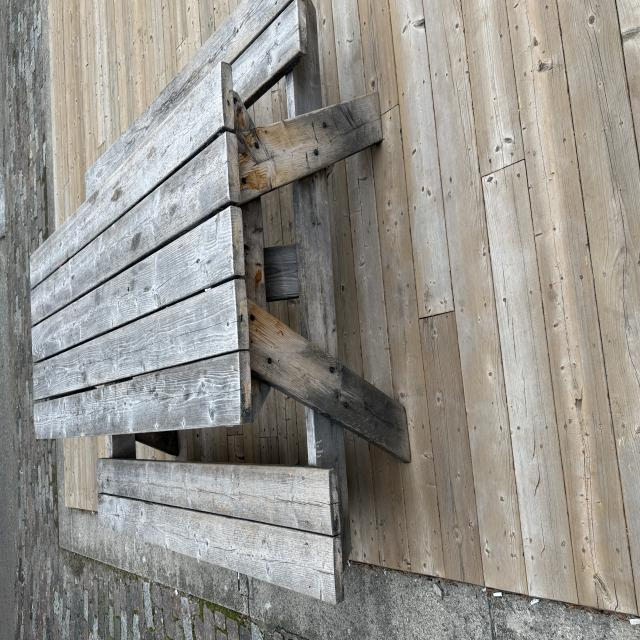Bench: (37, 32, 473, 515)
